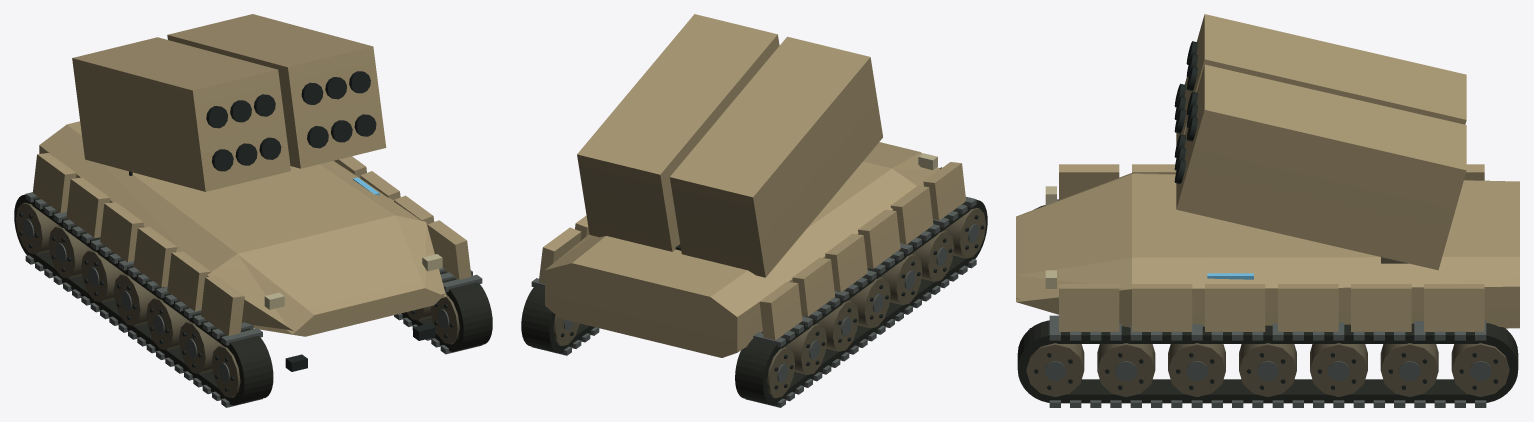
Rendered from mlrs.glb.
3 views of the same model, side by side, from view 1: azimuth 30°, elevation 25°; view 2: azimuth 150°, elevation 25°; view 3: azimuth 270°, elevation 25° (orthographic). The views are drawn at different scales.
Parts seen in each view (by area): view 1: armor (×2), equipment (×2); view 2: armor (×2), equipment; view 3: armor (×2), equipment (×2).
Part boxes in pixels (<box>): armor (×2): <box>33,14,471,336</box>; equipment (×2): <box>14,71,492,407</box>; armor (×2): <box>538,14,965,357</box>; equipment: <box>521,153,987,407</box>; armor (×2): <box>1016,14,1519,331</box>; equipment (×2): <box>1017,41,1518,407</box>.
Bounding box in the file's own units: 3.46 × 3.29 × 5.4.
